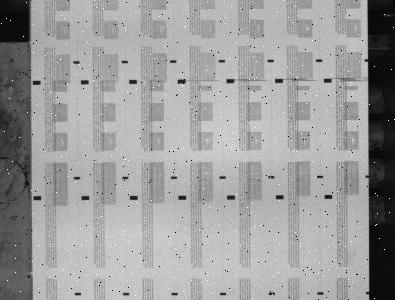backgroundclutter: (27, 275, 31, 278)
incorrect qblock: (364, 59, 369, 62), (365, 175, 369, 178), (366, 291, 370, 294)
qblock: (32, 80, 41, 85), (178, 195, 187, 200), (129, 79, 137, 84), (227, 195, 235, 200), (324, 194, 332, 199), (178, 79, 186, 84), (324, 78, 332, 83), (275, 78, 283, 83), (33, 196, 41, 200), (81, 80, 89, 84), (130, 196, 138, 200), (276, 195, 284, 199), (81, 196, 89, 200), (226, 79, 234, 83)
smallqblock: (268, 175, 275, 179), (219, 59, 226, 63), (171, 292, 178, 295), (219, 176, 226, 179), (122, 176, 129, 179), (73, 61, 80, 64), (316, 59, 323, 62), (121, 60, 128, 63), (170, 60, 177, 63), (267, 59, 274, 62), (317, 292, 324, 295), (220, 292, 227, 295), (74, 176, 80, 179), (317, 175, 323, 178), (171, 176, 177, 179), (75, 292, 81, 295), (269, 292, 275, 295), (123, 292, 129, 295)
